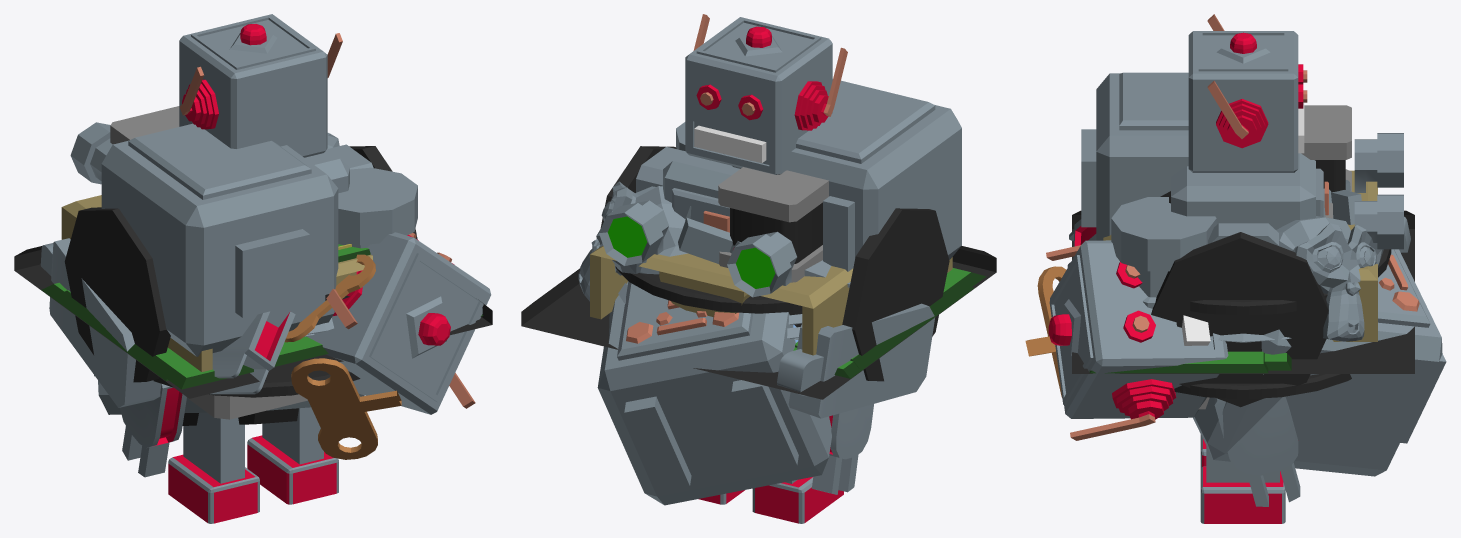
The model's file is ObjectenInteractable2.fbx.
3 views of the same model, side by side, from view 1: azimuth 30°, elevation 25°; view 2: azimuth 150°, elevation 25°; view 3: azimuth 270°, elevation 25° (orthographic).
Visible parts, largest first — view 1: 3DParts.001, CompletedRobot.001, HalfBot, BooBot, EmptyPCB.001, Motor, 3DFilament.001, FilledPCB.001; view 2: HalfBot, BooBot, CompletedRobot.001, 3DParts.001, 3DFilament.001, EmptyPCB.001, FilledPCB.001; view 3: HalfBot, CompletedRobot.001, 3DParts.001, BooBot, 3DFilament.001, EmptyPCB.001.
Part boxes in pixels (x1,y1,x2,y2): 3DParts.001: (14, 123, 492, 398); CompletedRobot.001: (120, 14, 375, 523); HalfBot: (40, 232, 491, 459); BooBot: (61, 106, 417, 382); EmptyPCB.001: (54, 290, 483, 389); Motor: (187, 394, 307, 419); 3DFilament.001: (153, 294, 360, 397); FilledPCB.001: (41, 282, 168, 381); HalfBot: (597, 206, 934, 505); BooBot: (590, 146, 952, 381); CompletedRobot.001: (636, 14, 873, 523); 3DParts.001: (521, 79, 996, 399); 3DFilament.001: (615, 266, 802, 339); EmptyPCB.001: (795, 268, 986, 368); FilledPCB.001: (793, 287, 974, 378); HalfBot: (1025, 180, 1446, 476); CompletedRobot.001: (1081, 14, 1328, 523); 3DParts.001: (1072, 72, 1414, 373); BooBot: (1103, 105, 1403, 407); 3DFilament.001: (1174, 249, 1391, 399); EmptyPCB.001: (1089, 351, 1268, 373).
Bounding box in the file's own units: 157 × 220 × 184.
